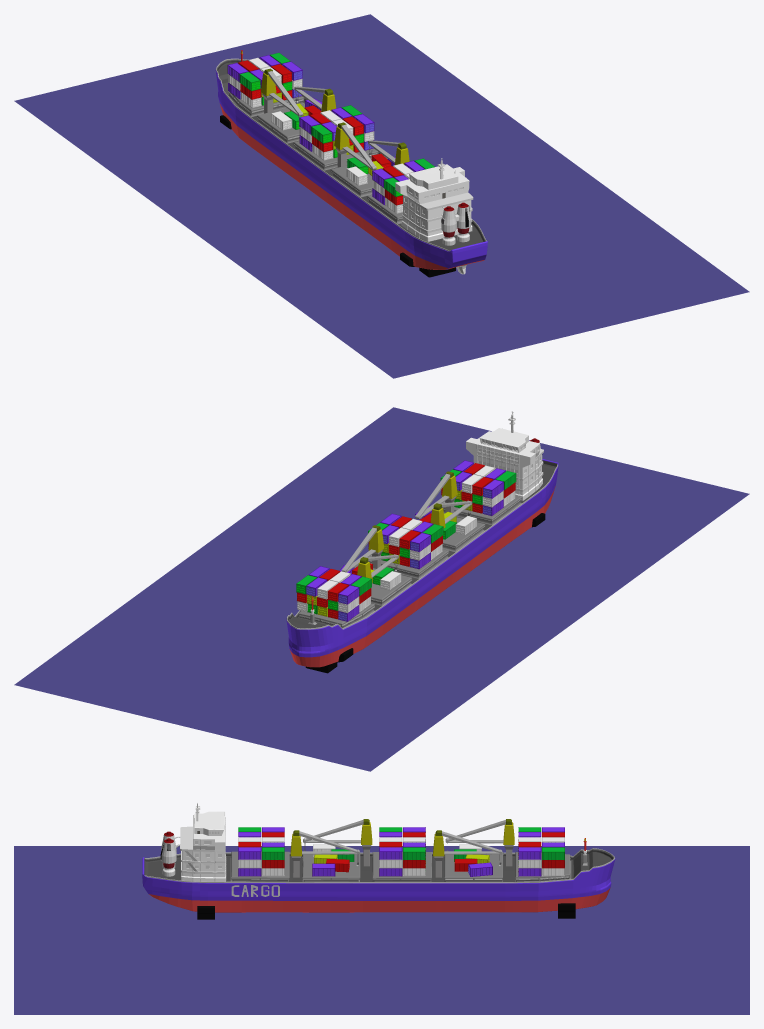
The picture shows the model from 3 angles, top to bottom: view 1: azimuth 30°, elevation 25°; view 2: azimuth 150°, elevation 25°; view 3: azimuth 270°, elevation 25°; orthographic projection. The views are drawn at different scales.
Visible parts, largest first — view 1: background, SHIP, full 2, full 3, full 1, mid full 2, mid full; view 2: background, SHIP, full 3, full 2, full 1, mid full 2; view 3: background, SHIP, full 3, full 2, full 1, mid full 2, mid full.
Boxes of the visible parts, x1,y1,x2,y2 form: background: (14,14,749,378); SHIP: (215,50,487,274); full 2: (299,105,374,160); full 3: (227,52,302,108); full 1: (372,158,434,213); mid full 2: (346,153,395,185); mid full: (271,98,322,130); background: (14,407,749,771); SHIP: (286,411,558,667); full 3: (296,566,371,621); full 2: (368,513,443,569); full 1: (440,460,516,515); mid full 2: (415,506,476,539); background: (14,846,749,1014); SHIP: (142,802,615,912); full 3: (518,827,564,876); full 2: (379,827,425,876); full 1: (238,827,284,876); mid full 2: (312,844,354,876); mid full: (454,844,492,876).
Size of the model in its own units: 21.09 by 6.62 by 38.88.
